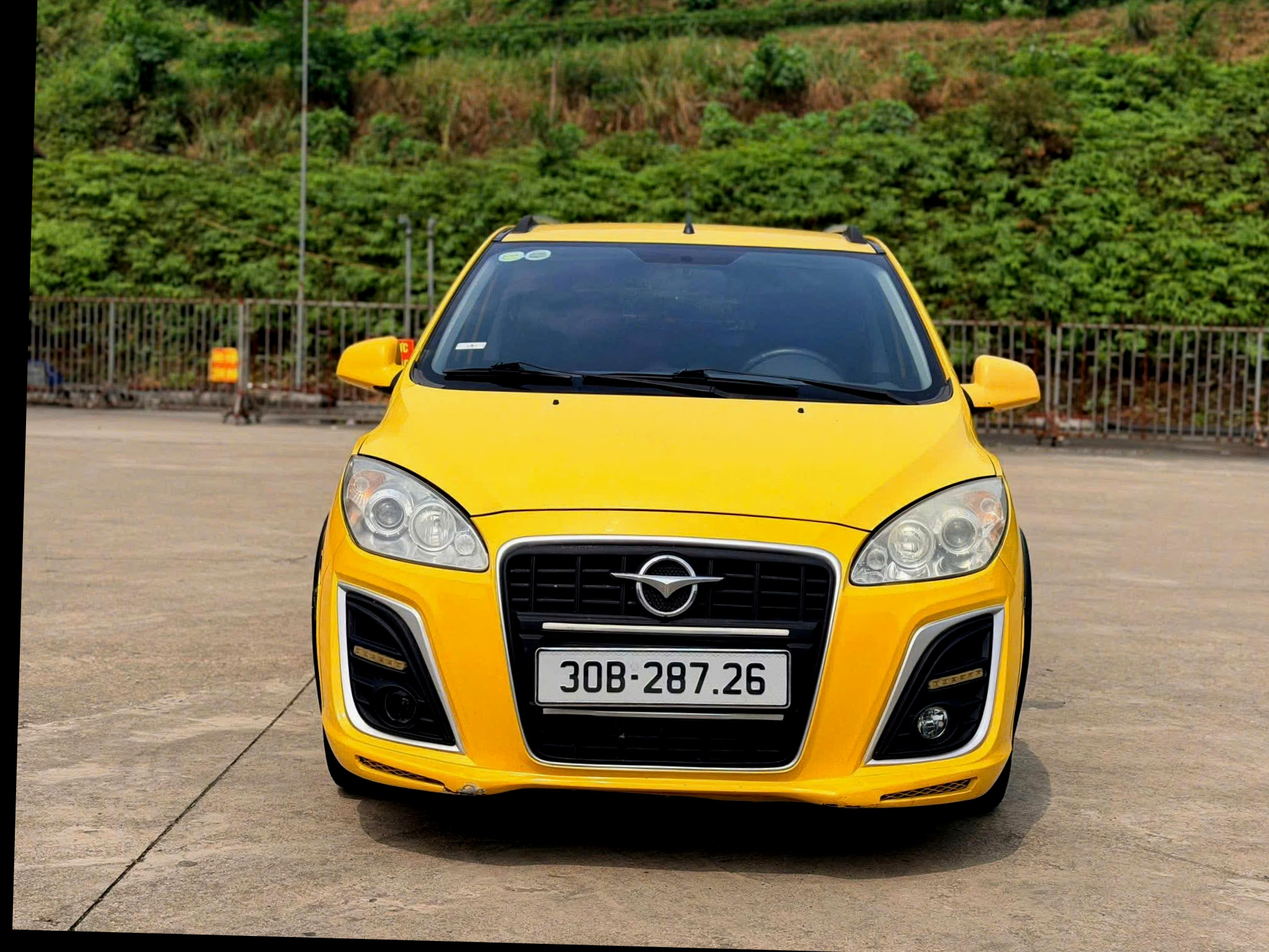Bien-so: (531, 639, 791, 715)
